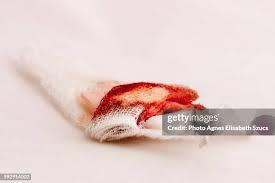cotton: (18, 50, 181, 140)
